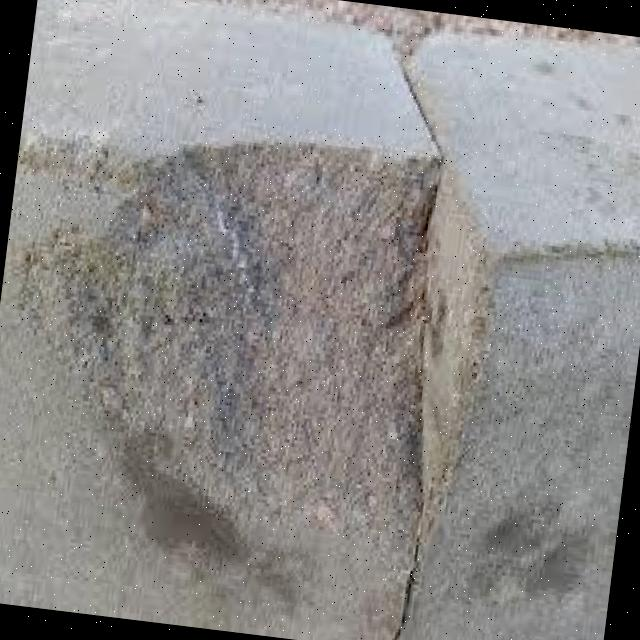curb: (1, 1, 443, 640), (396, 38, 640, 640)
